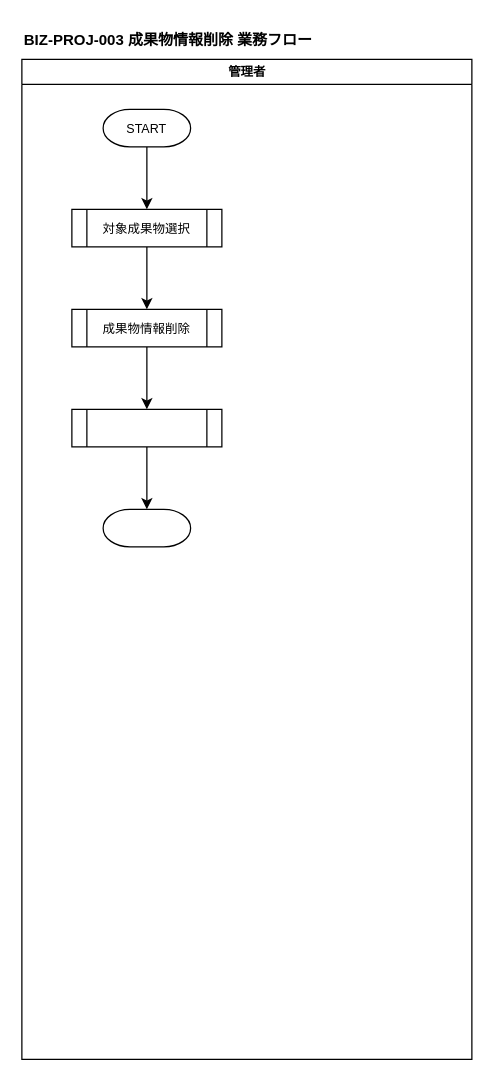
This 494x1081 diagram has some shape labels left out. Here are the shapes that lost their labels. From the top down, the centre of each, then its label:
(146,427): 削除結果確認
(146,527): END
